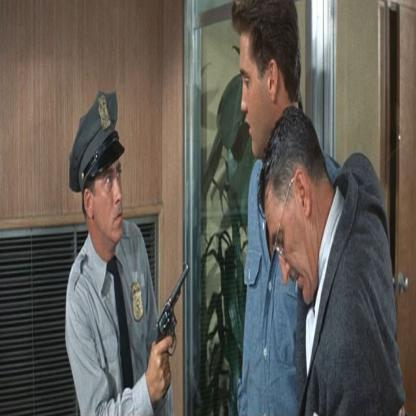gun: (146, 256, 200, 361)
